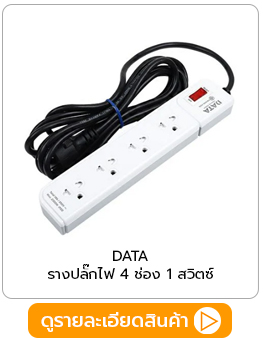Three_eye_plug: (37, 76, 236, 238)
